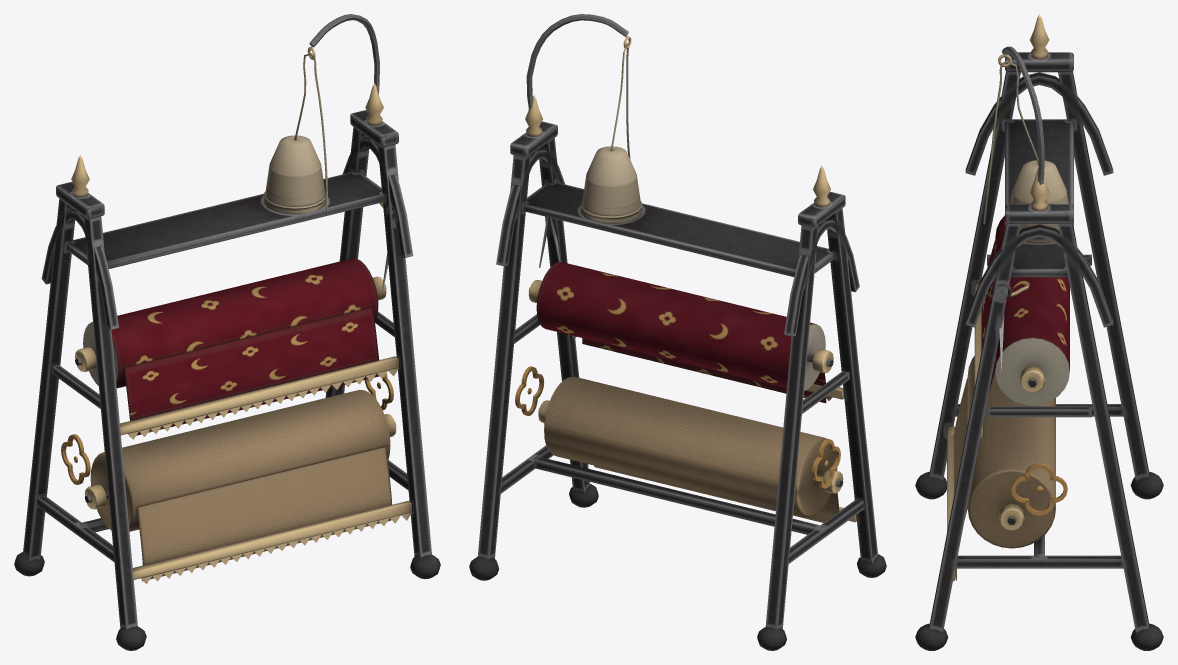
Rendered from WrapStand.fbx.
The picture shows the model from 3 angles, left to right: view 1: azimuth 30°, elevation 25°; view 2: azimuth 150°, elevation 25°; view 3: azimuth 270°, elevation 25°; orthographic projection. The views are drawn at different scales.
Parts seen in each view (by area): view 1: WrapStand; view 2: WrapStand; view 3: WrapStand.
Boxes of the visible parts, <box> form: WrapStand: <box>14,14,440,650</box>; WrapStand: <box>469,14,886,650</box>; WrapStand: <box>915,14,1163,650</box>.
Size of the model in its own units: 283 by 458 by 180.
